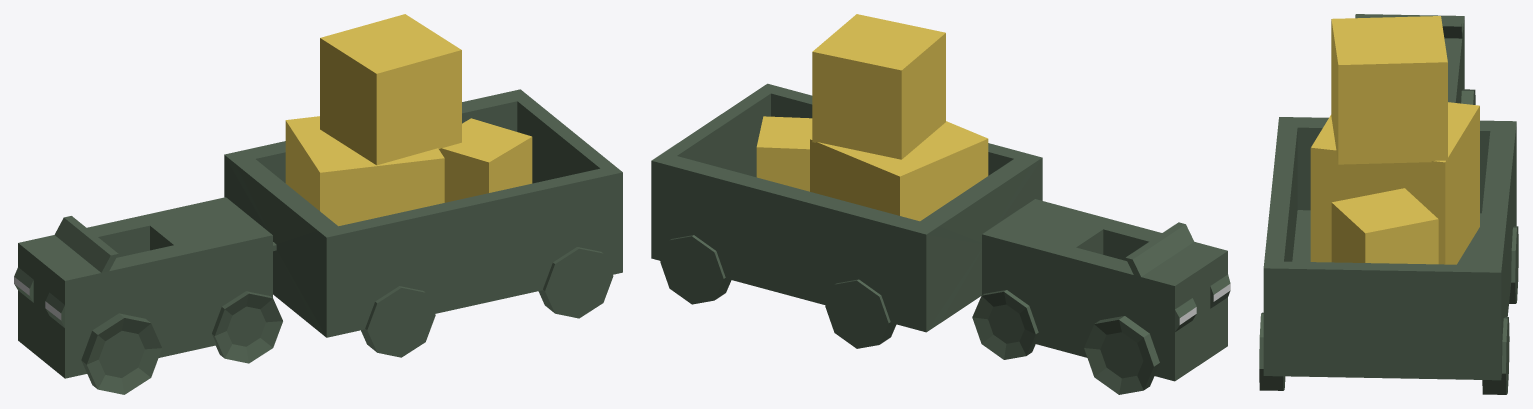
The model's file is Cart.fbx.
The picture shows the model from 3 angles, left to right: view 1: azimuth 30°, elevation 25°; view 2: azimuth 150°, elevation 25°; view 3: azimuth 270°, elevation 25°; orthographic projection. The views are drawn at different scales.
Visible parts, largest first — view 1: Cube.009; view 2: Cube.009; view 3: Cube.009.
Boxes of the visible parts, x1,y1,x2,y2 form: Cube.009: [14, 14, 622, 394]; Cube.009: [651, 14, 1230, 394]; Cube.009: [1259, 14, 1518, 394].
Bounding box in the file's own units: 729 × 349 × 290.
